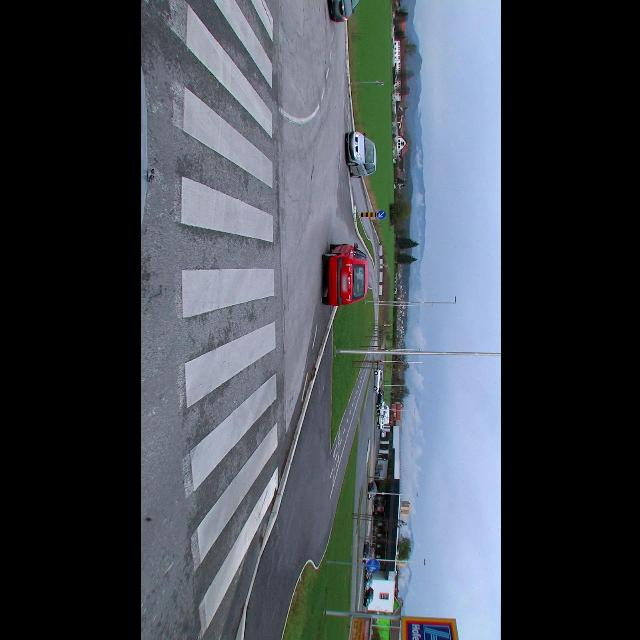Round: (365, 559, 379, 573), (375, 210, 385, 220)
